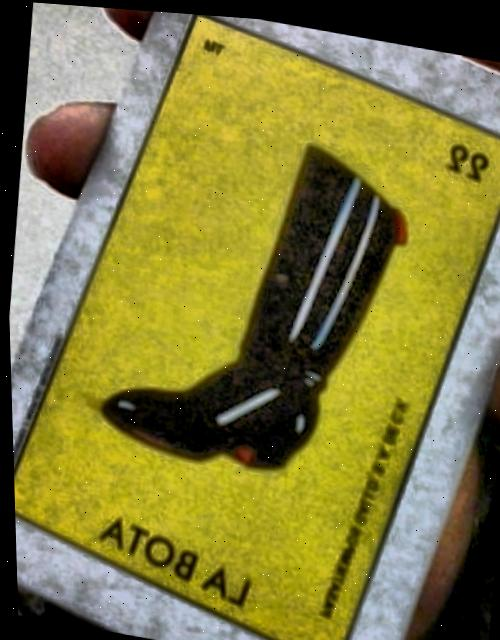La Bota: (11, 12, 500, 640)
